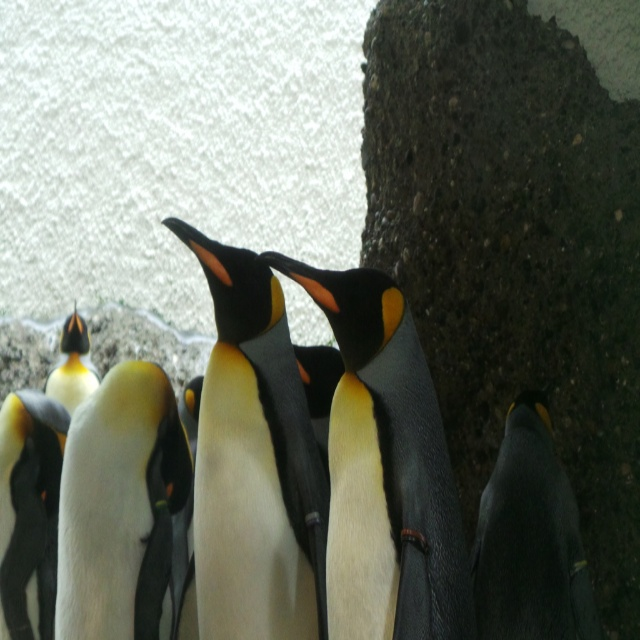Penguin: (0, 218, 605, 639)
